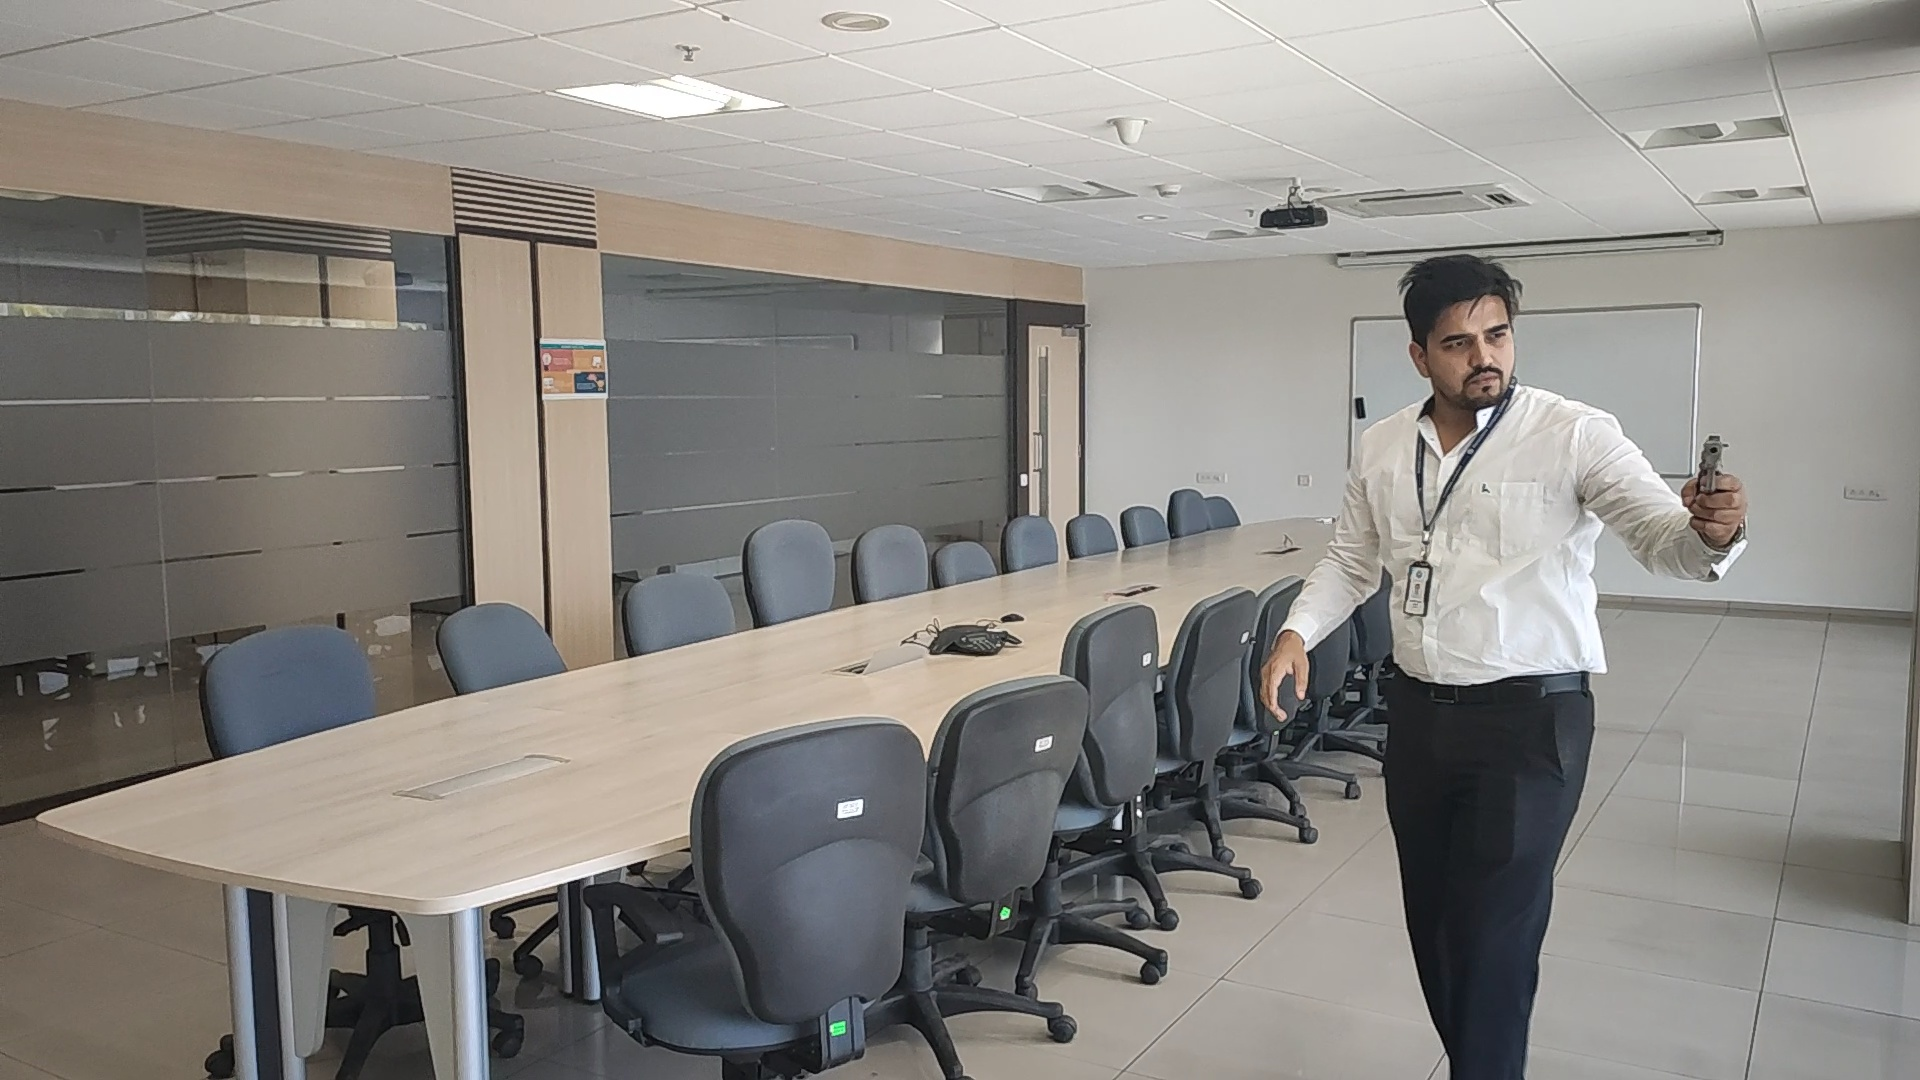gun: (1697, 433, 1731, 471)
